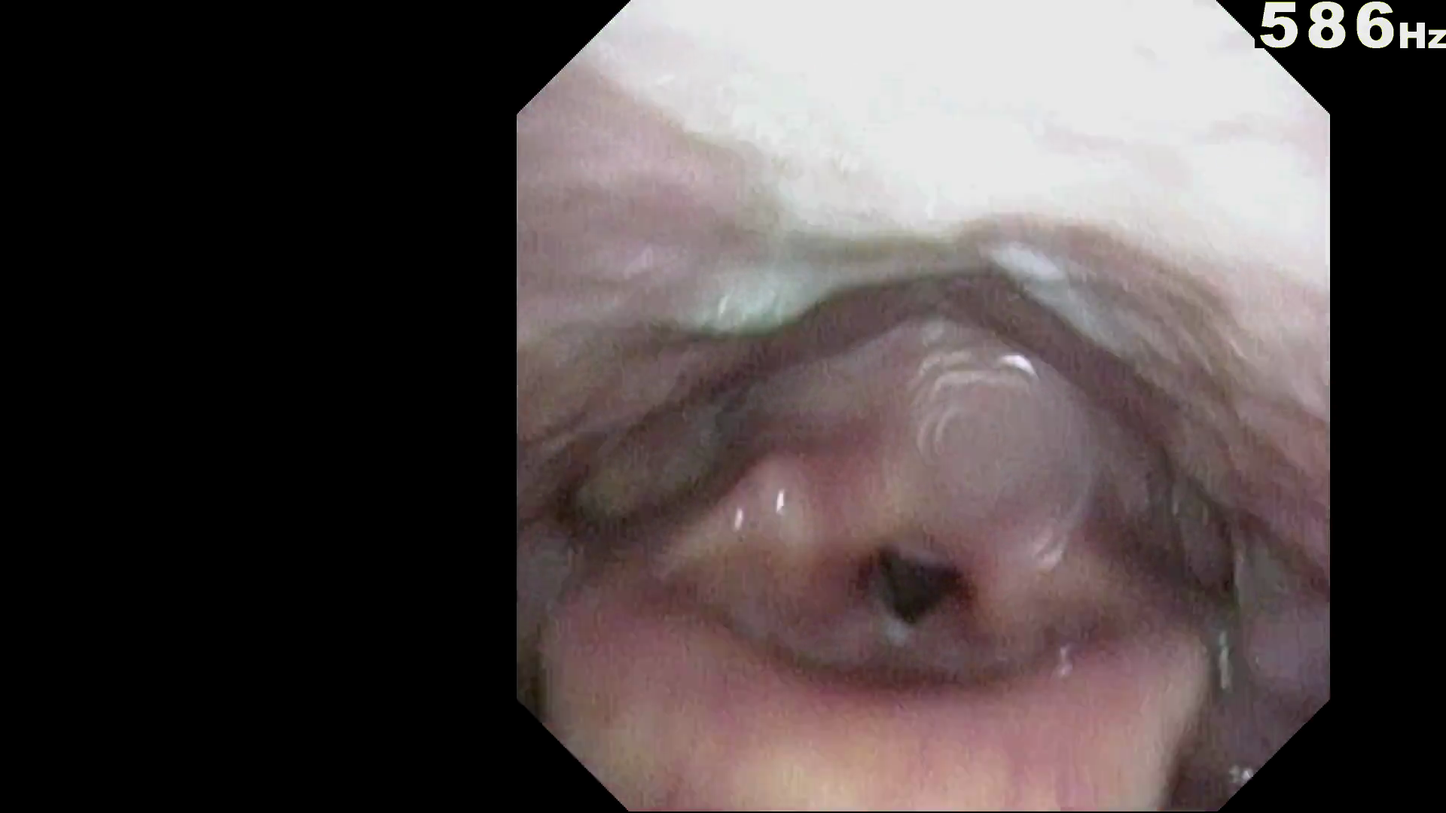epiglottis: (620, 676, 1211, 787)
trachea: (852, 539, 976, 660)
